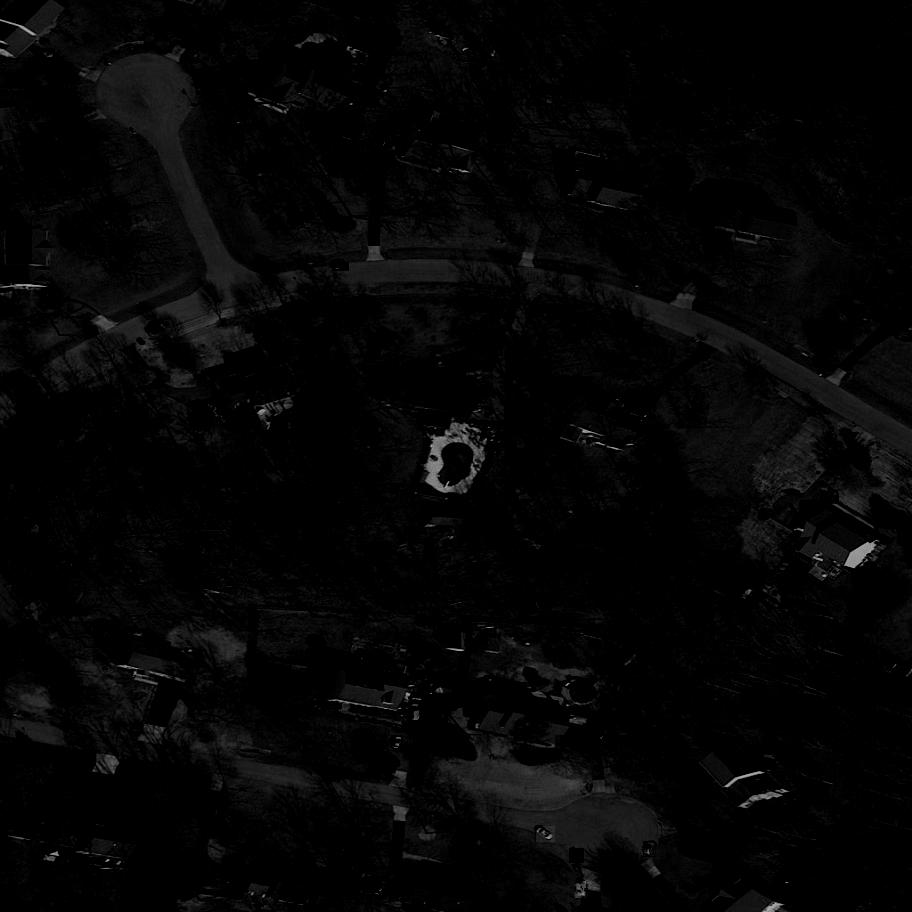small-vehicle: (147, 320, 171, 340), (194, 401, 212, 426), (29, 57, 51, 74), (626, 395, 644, 415), (536, 826, 555, 843), (594, 722, 610, 742), (388, 881, 401, 904), (375, 883, 390, 901), (569, 848, 585, 864), (208, 402, 221, 421), (35, 49, 55, 61), (576, 881, 589, 899), (409, 703, 421, 722), (323, 771, 341, 783), (644, 842, 657, 858), (555, 736, 572, 747), (379, 132, 389, 150), (392, 735, 403, 751), (396, 119, 406, 136), (389, 135, 400, 150), (332, 262, 350, 271), (217, 878, 237, 885)
